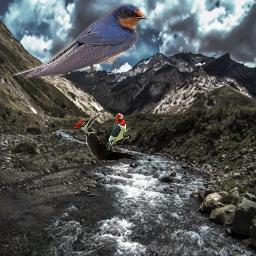Swallow: (12, 2, 149, 80)
Woodpecker: (70, 114, 138, 160), (105, 113, 129, 150)
